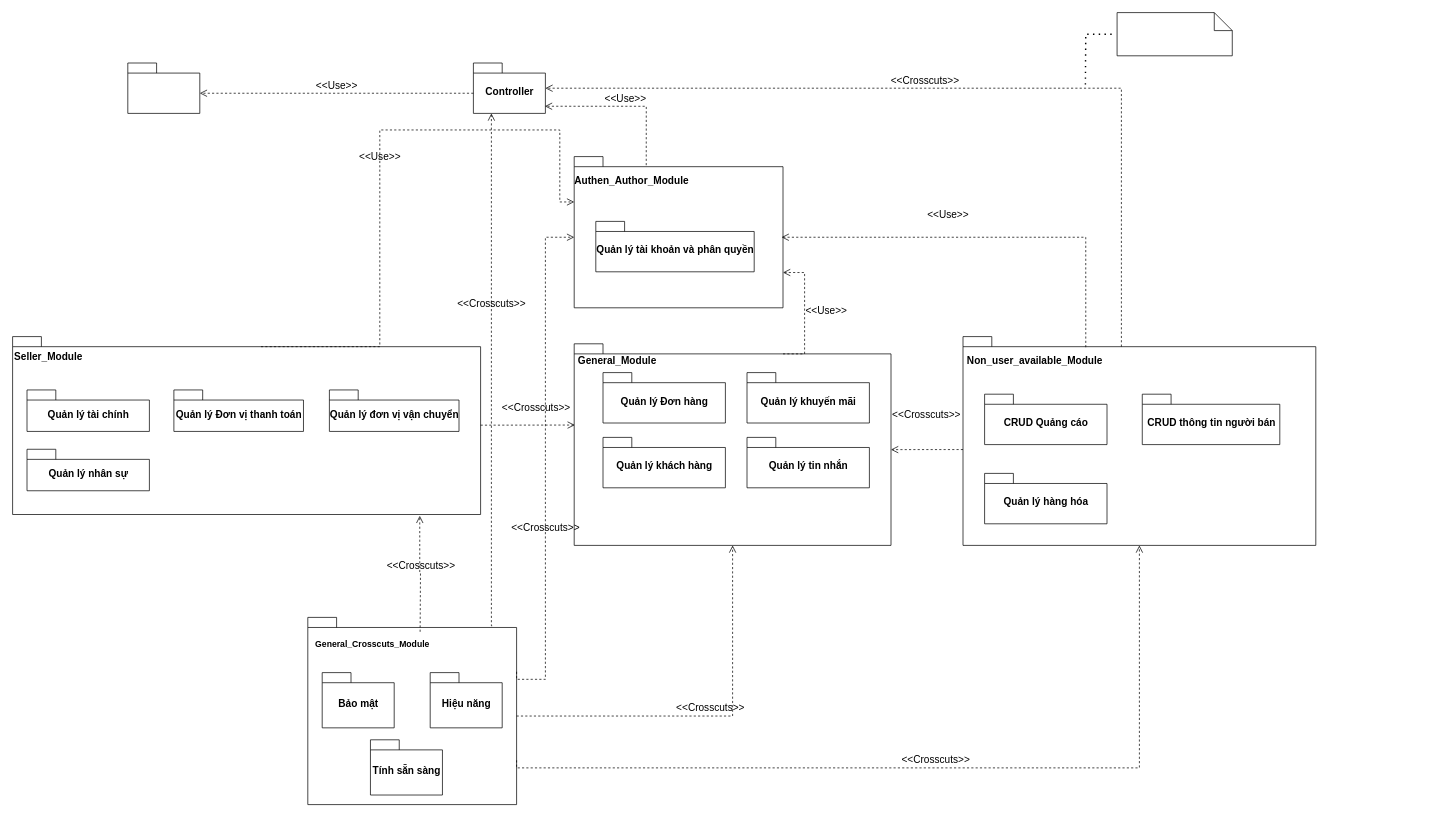
Image size: 1444x817. Some labels were removed from this diagram. Here are the shapes that lost their labels. From the top down, the box of each, then its label:
(1116, 12, 1232, 56): Chỉ những UC thuộc mục X(R)
(127, 62, 200, 113): Application
